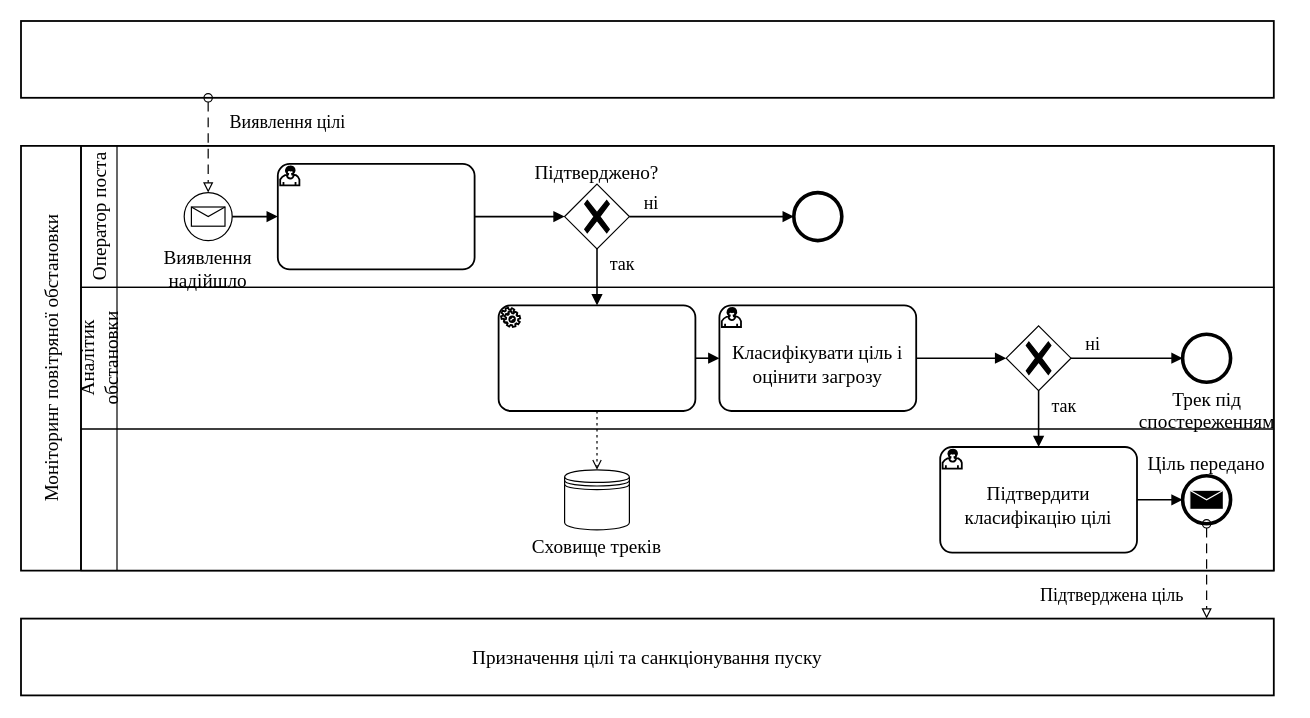
Some shapes in this 1310 by 718 pixel diagram are drawn without their labels. Each missing label, with the box of its shape:
Верифікувати виявлення: (276, 162, 475, 270)
Ворожа ціль?: (1005, 325, 1071, 391)
Злити виявлення у трек цілі: (497, 304, 696, 411)
Оперативний черговий: (80, 428, 1274, 571)
Сенсорна мережа (акустичні вузли, РЛС, оптико-електронні пости): (20, 20, 1274, 98)
Хибне виявлення: (793, 191, 842, 241)
